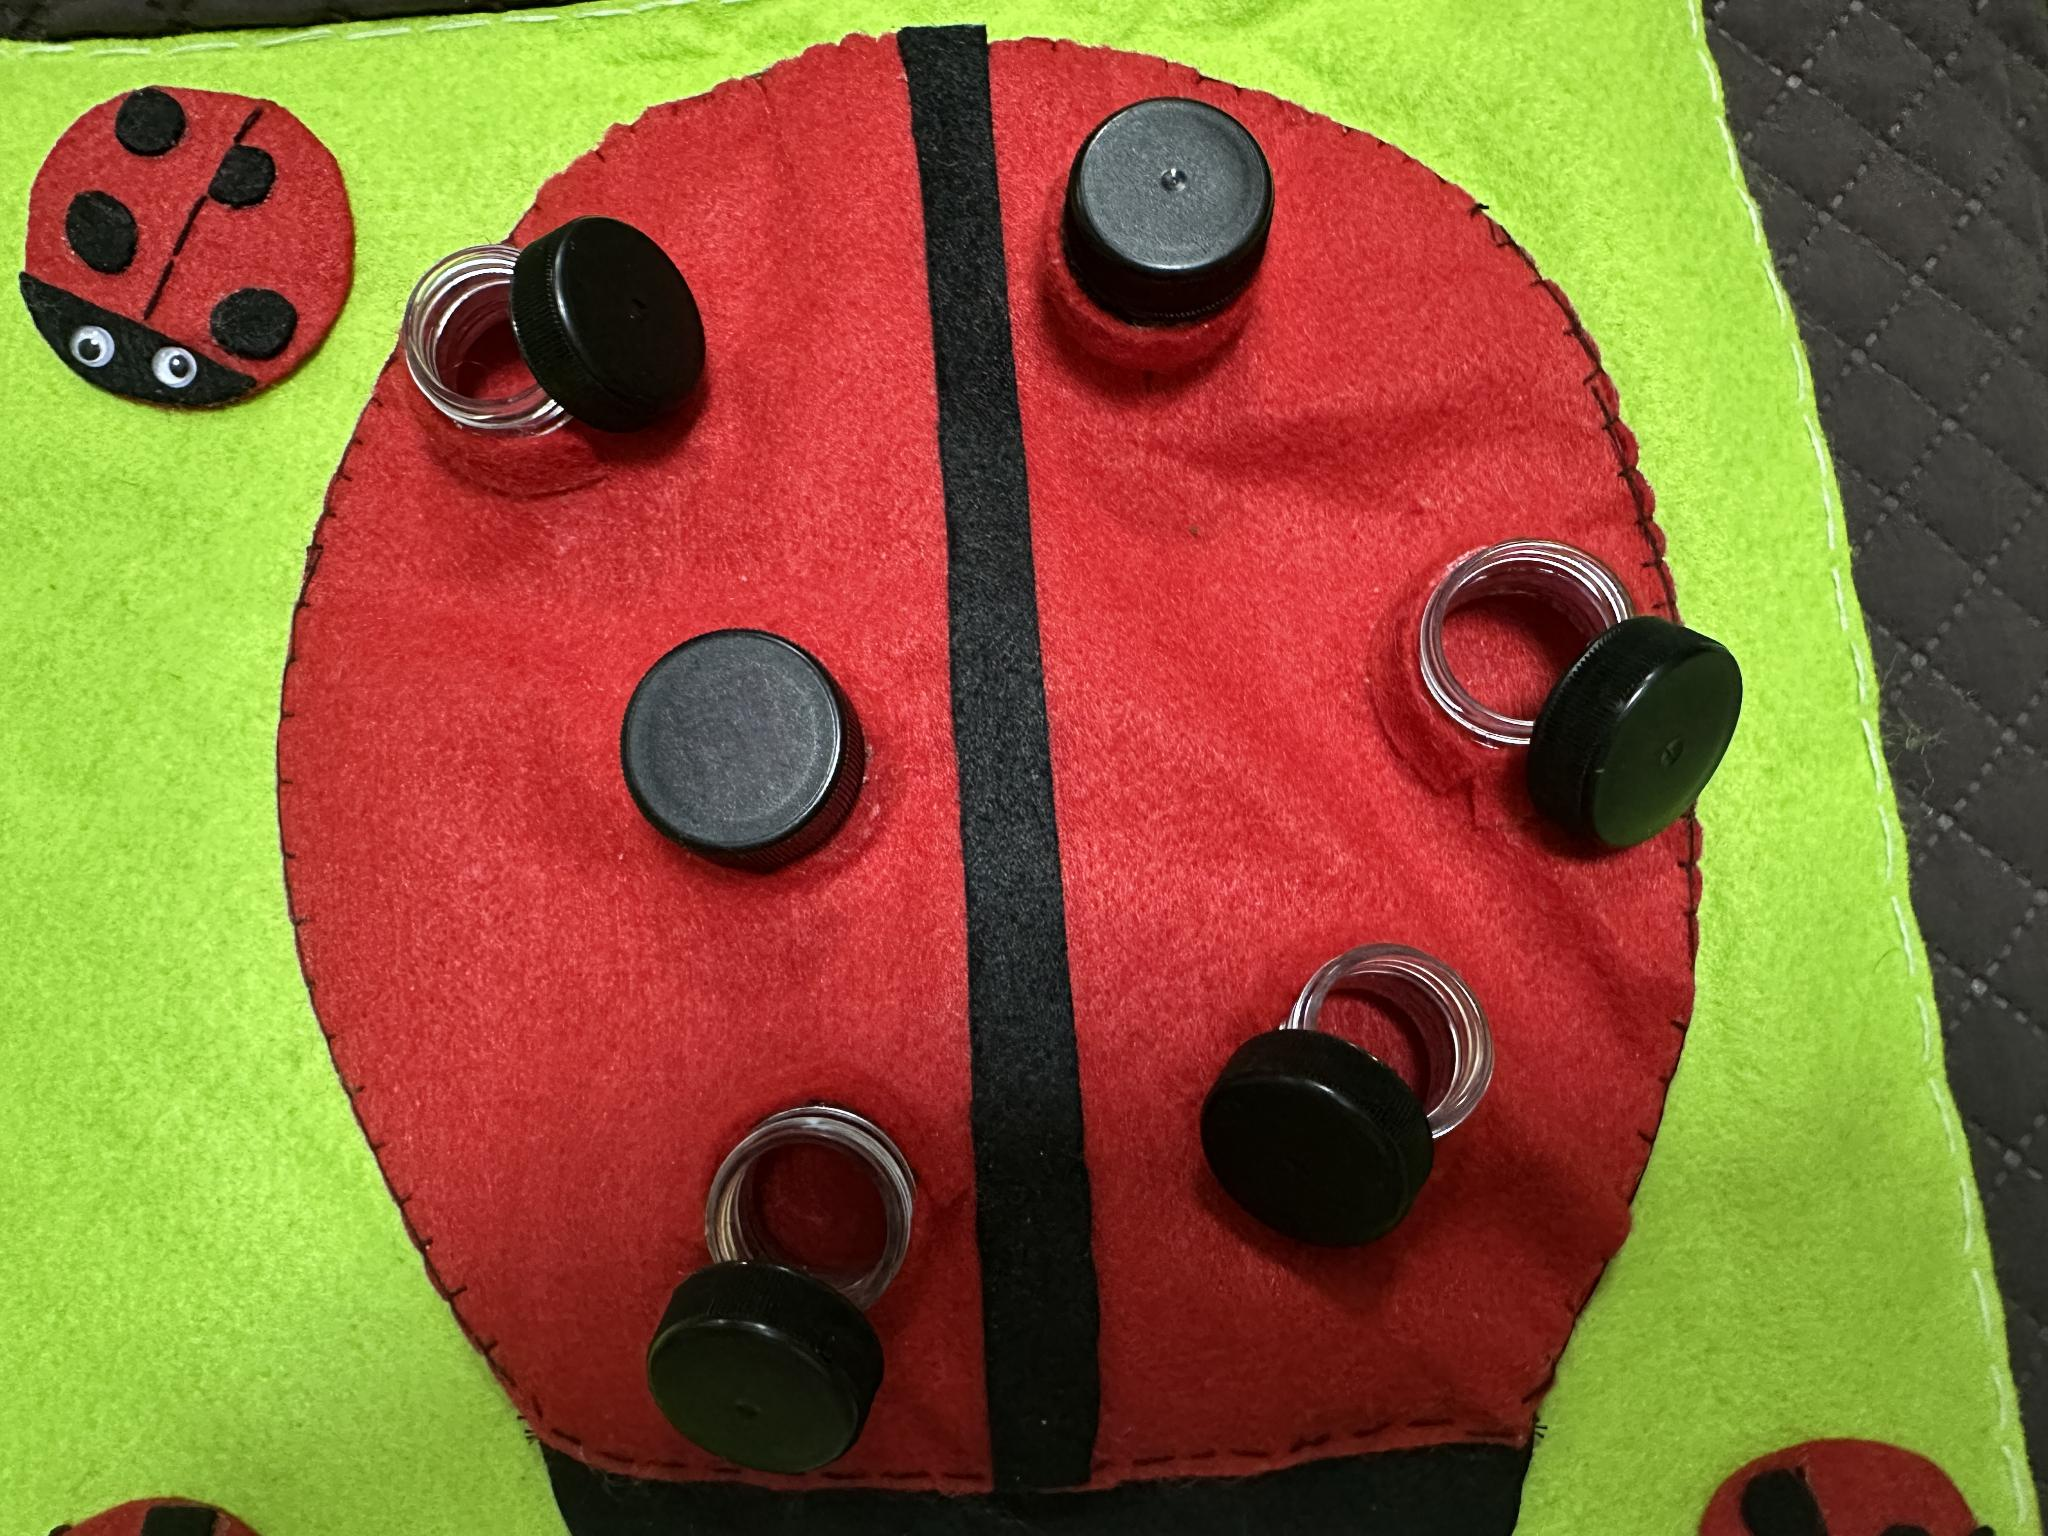cap_ng: (613, 1063, 998, 1507), (1172, 884, 1527, 1278), (1395, 494, 1746, 862), (384, 216, 742, 502)
cap_ok: (1027, 82, 1306, 439), (603, 582, 908, 900)
